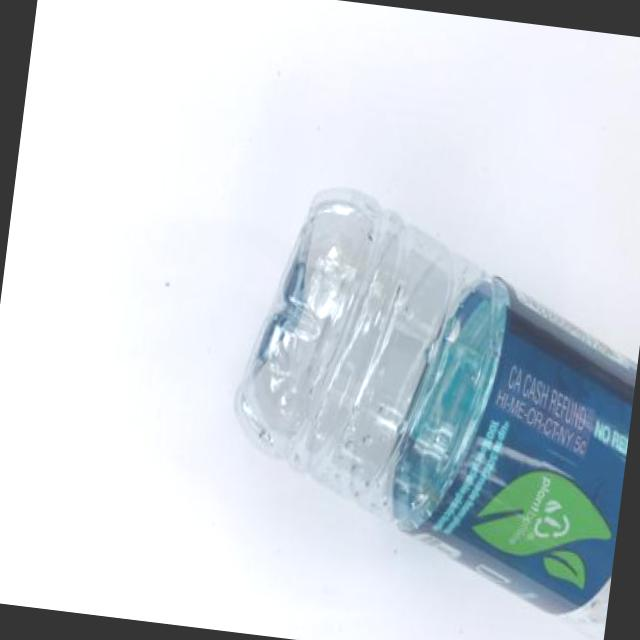Recycle: (210, 179, 640, 640)
